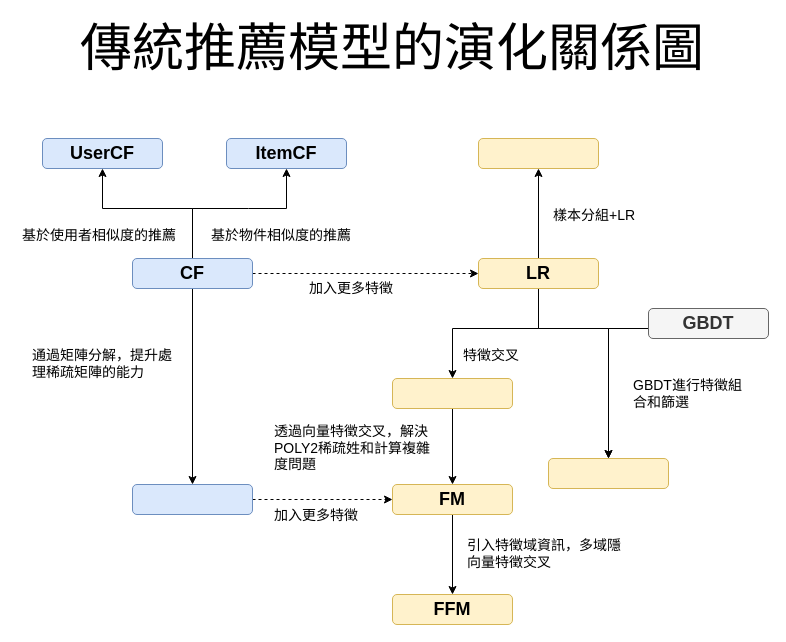
Some shapes in this 786 by 642 pixel diagram are drawn without their labels. Each missing label, with the box of its shape:
GBDT+LR: (548, 458, 668, 488)
LS-PLM: (478, 138, 598, 168)
MF: (132, 484, 252, 514)
POLY2: (392, 378, 512, 408)
